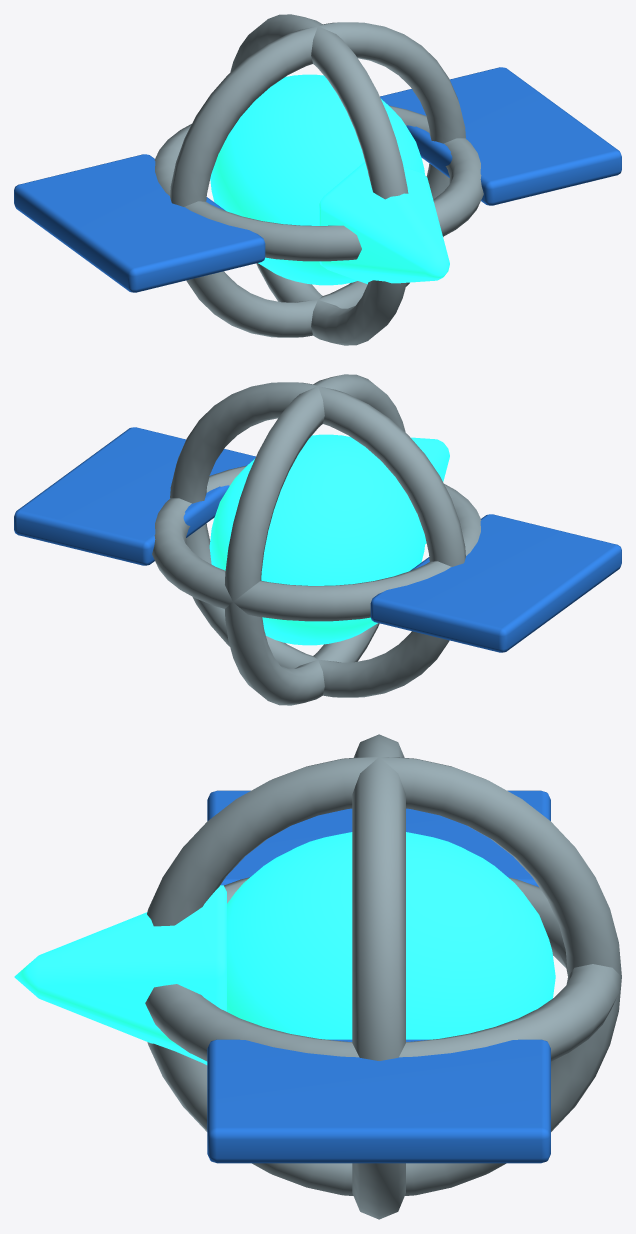
The model's file is IonAttacker_Special.fbx.
The picture shows the model from 3 angles, top to bottom: view 1: azimuth 30°, elevation 25°; view 2: azimuth 150°, elevation 25°; view 3: azimuth 270°, elevation 25°; orthographic projection. The views are drawn at different scales.
Visible parts, largest first — view 1: Containment ring.005, Satellite wing, Plasma core.001, Satellite wing.001, Containment ring.003, Orbital penetrator, Containment ring.004; view 2: Plasma core.001, Containment ring.005, Satellite wing, Satellite wing.001, Containment ring.003, Containment ring.004, Orbital penetrator; view 3: Plasma core.001, Satellite wing.001, Containment ring.003, Containment ring.005, Orbital penetrator, Containment ring.004, Satellite wing.
Boxes of the visible parts, box(x1,y1,x2,y2) form: Containment ring.005: box(170, 22, 465, 337); Satellite wing: box(14, 154, 265, 292); Plasma core.001: box(210, 74, 424, 285); Satellite wing.001: box(380, 67, 621, 205); Containment ring.003: box(230, 14, 408, 345); Orbital penetrator: box(319, 161, 449, 284); Containment ring.004: box(154, 105, 483, 261); Plasma core.001: box(209, 434, 425, 645); Containment ring.005: box(170, 382, 465, 697); Satellite wing: box(370, 514, 621, 652); Satellite wing.001: box(14, 427, 255, 565); Containment ring.003: box(225, 374, 405, 705); Containment ring.004: box(152, 465, 481, 621); Orbital penetrator: box(410, 437, 449, 544); Plasma core.001: box(227, 832, 555, 1039); Satellite wing.001: box(207, 1039, 550, 1163); Containment ring.003: box(147, 757, 621, 1195); Containment ring.005: box(352, 734, 405, 1219); Orbital penetrator: box(14, 885, 226, 1064); Containment ring.004: box(145, 877, 621, 1061); Satellite wing: box(207, 790, 550, 886).
Bounding box in the file's own units: 166 × 99 × 124.
